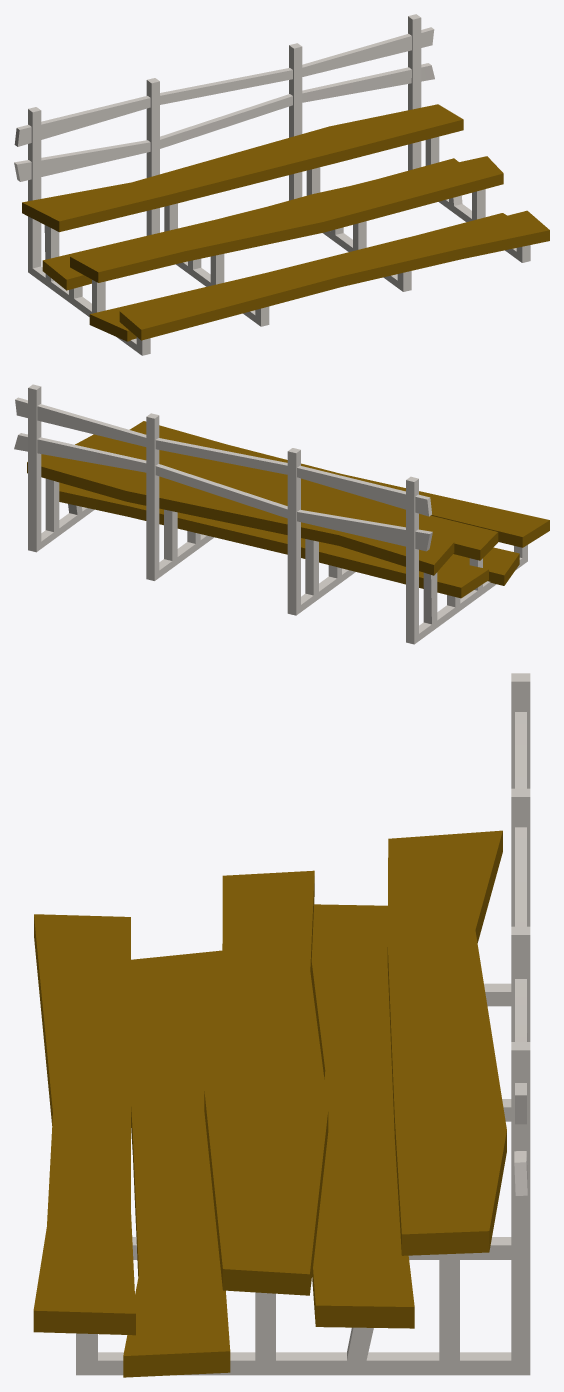
File: bench.fbx
3 renders of one model, top to bottom at view 1: azimuth 30°, elevation 25°; view 2: azimuth 150°, elevation 25°; view 3: azimuth 270°, elevation 25°, orthographic. The views are drawn at different scales.
Parts seen in each view (by area): view 1: polySurface7; view 2: polySurface7; view 3: polySurface7.
Part boxes in pixels (<box>): polySurface7: <box>14,14,549,355</box>; polySurface7: <box>14,384,549,644</box>; polySurface7: <box>33,673,530,1377</box>.
Bounding box in the file's own units: 141 × 52.23 × 72.41.
